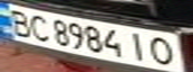4: (103, 26, 127, 60)
8: (81, 24, 106, 55), (48, 17, 72, 47)
9: (66, 20, 84, 51)
B: (3, 6, 36, 37)
C: (24, 12, 54, 43)
I: (124, 29, 151, 62)
O: (145, 34, 184, 66)
